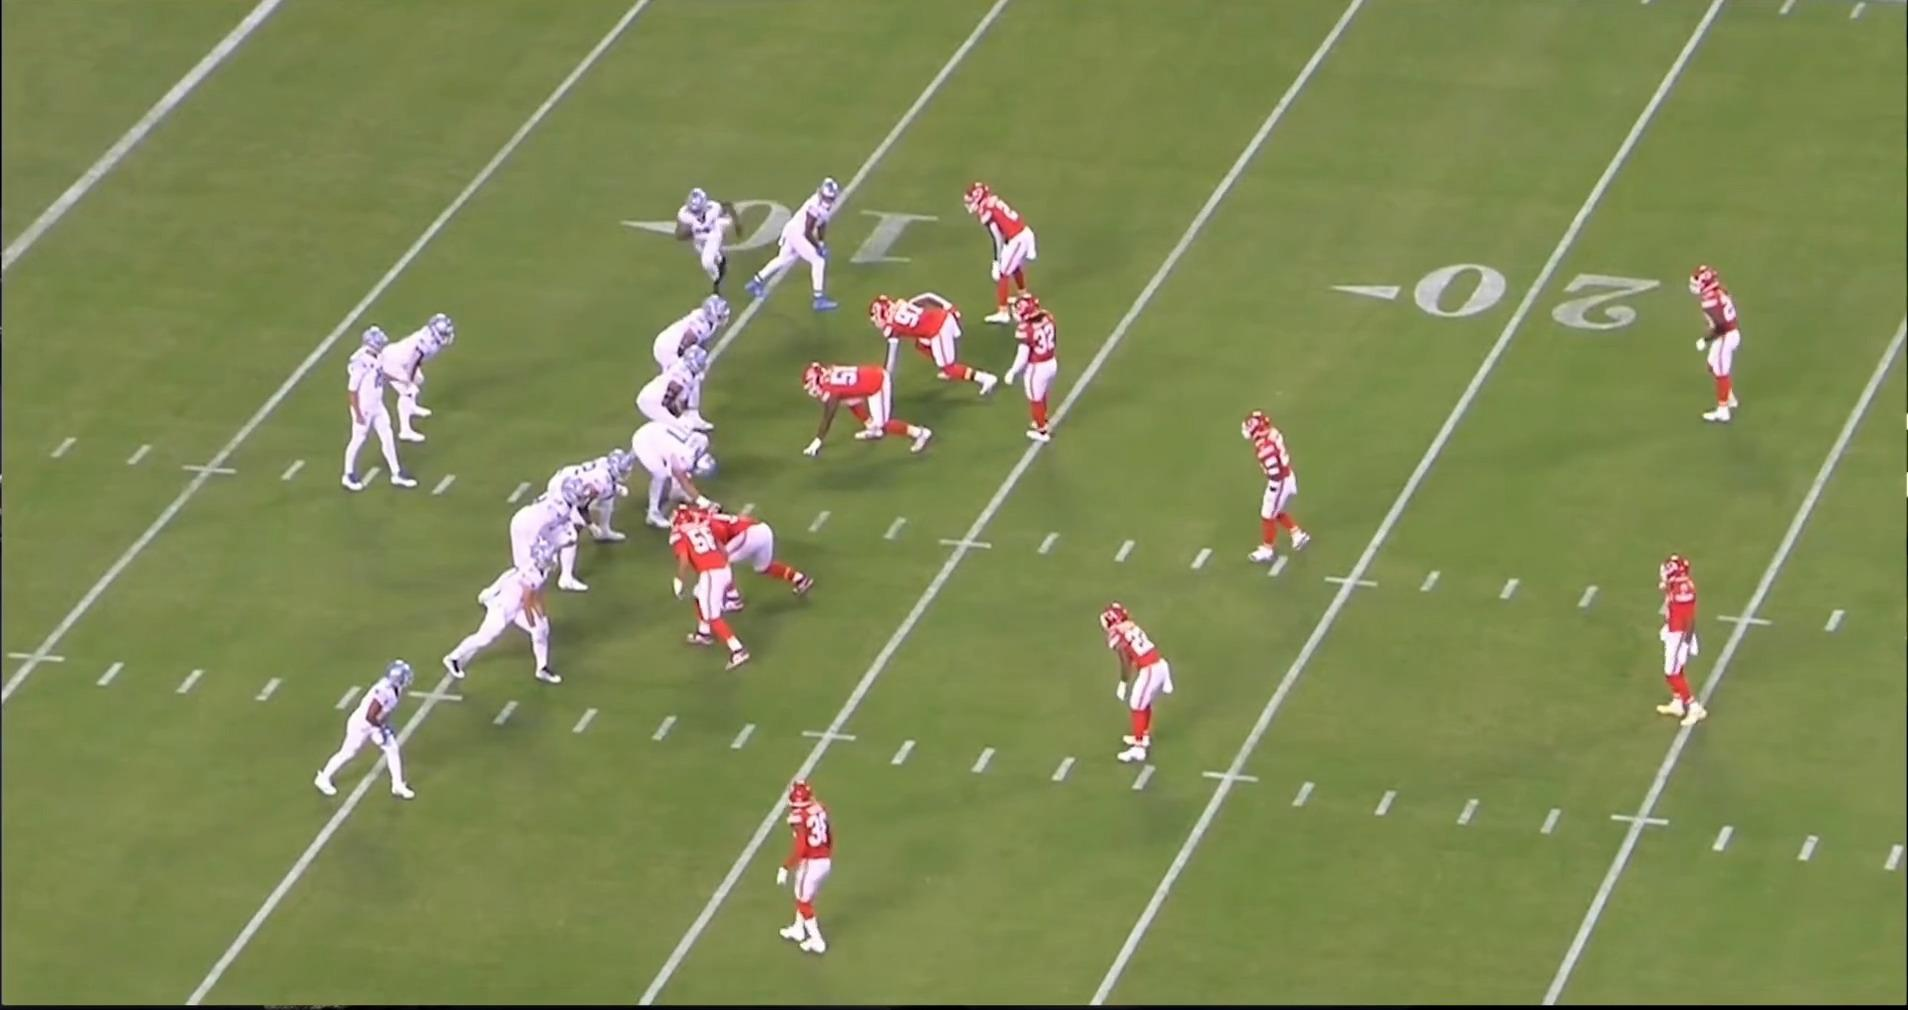player: (447, 543, 574, 689), (305, 653, 420, 806), (744, 174, 851, 315), (334, 332, 422, 501), (685, 504, 822, 611), (665, 509, 752, 674), (874, 292, 1008, 398), (484, 474, 590, 608), (794, 358, 932, 456), (778, 779, 851, 961), (1100, 599, 1175, 774), (1245, 411, 1321, 572), (968, 176, 1044, 331), (1646, 545, 1708, 729), (626, 415, 719, 536), (658, 294, 741, 428), (541, 445, 633, 565), (640, 345, 724, 476), (1691, 262, 1754, 431), (997, 293, 1059, 455), (680, 182, 755, 308), (385, 310, 454, 443)
